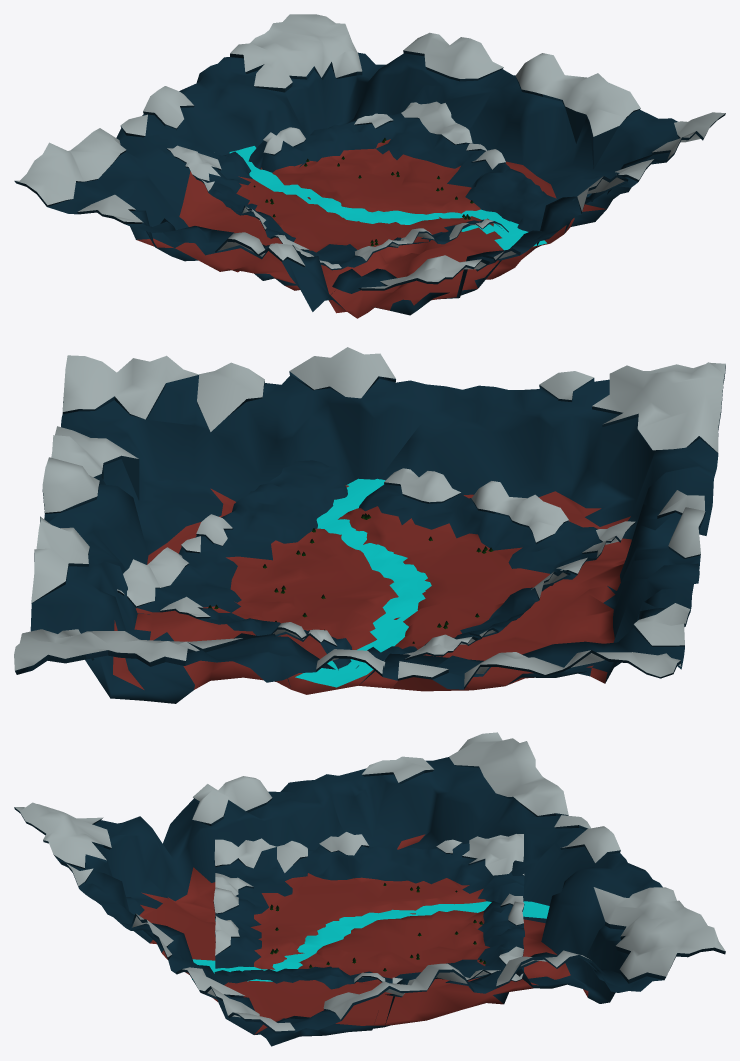
File: enviroment.dae
3 renders of one model, top to bottom at view 1: azimuth 30°, elevation 25°; view 2: azimuth 150°, elevation 25°; view 3: azimuth 270°, elevation 25°, orthographic. The views are drawn at different scales.
Visible parts, largest first — view 1: pPlane4, pPlane1, pPlane3; view 2: pPlane4, pPlane1, pPlane3; view 3: pPlane4, pPlane1, pPlane3.
Part boxes in pixels (x1,y1,x2,y2): pPlane4: (14, 14, 725, 318); pPlane1: (167, 101, 557, 270); pPlane3: (229, 146, 546, 250); pPlane4: (14, 347, 725, 703); pPlane1: (117, 460, 635, 670); pPlane3: (295, 478, 431, 687); pPlane4: (14, 732, 725, 1046); pPlane1: (213, 832, 524, 989); pPlane3: (192, 901, 549, 981).
Bounding box in the file's own units: 919 × 157 × 923.
